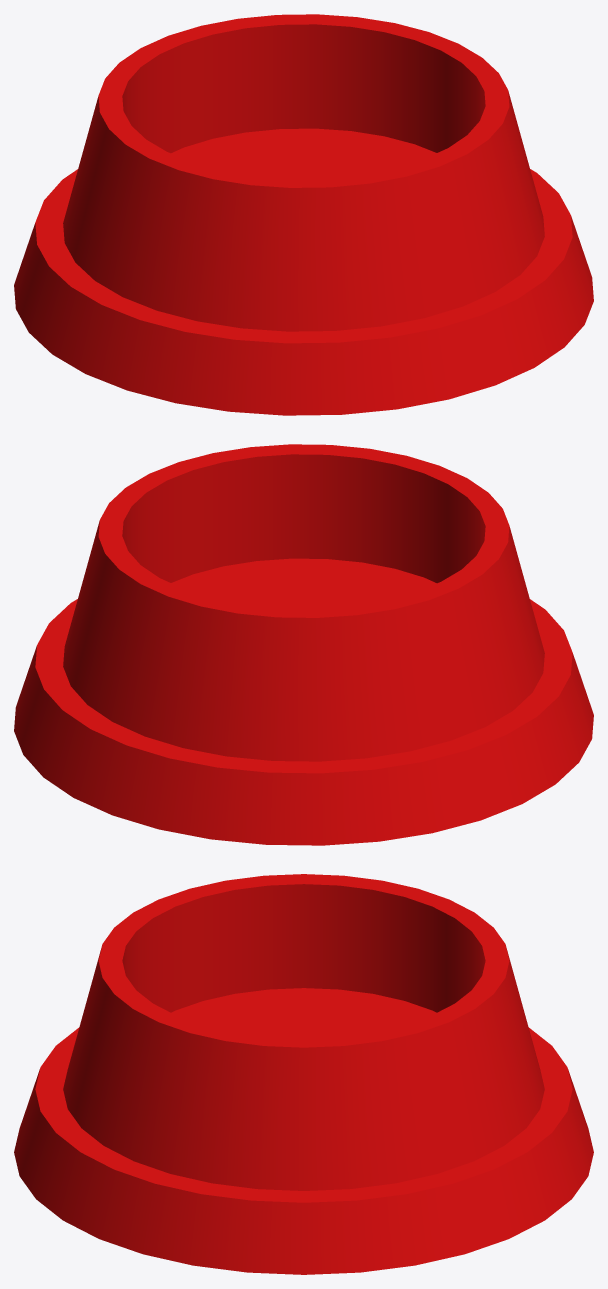
Rendered from cat eat ver1.fbx.
3 views of the same model, one above another, from view 1: azimuth 30°, elevation 25°; view 2: azimuth 150°, elevation 25°; view 3: azimuth 270°, elevation 25° (orthographic).
Parts seen in each view (by area): view 1: 円; view 2: 円; view 3: 円.
Part boxes in pixels (bbox=[...]): 円: bbox=[14, 14, 593, 415]; 円: bbox=[14, 444, 593, 845]; 円: bbox=[14, 874, 593, 1274].
Bounding box in the file's own units: 200 × 72.87 × 200.
